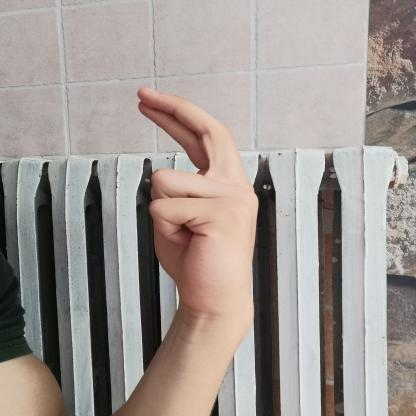ZAY: (122, 78, 270, 326)
